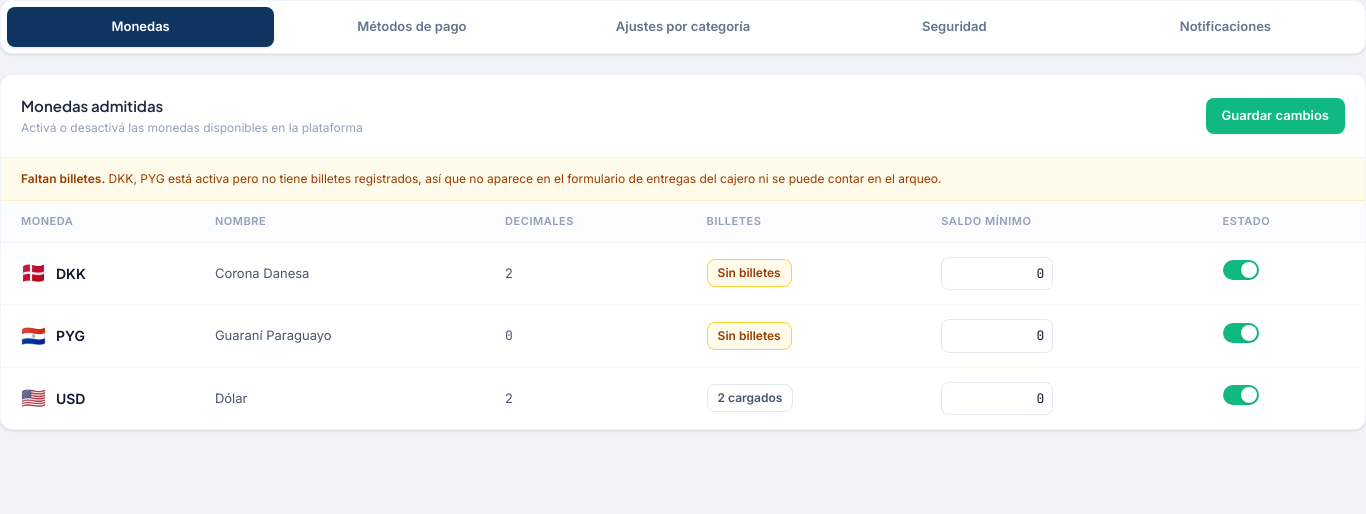
Scenario: Configuration (API + tabs) › PI-80: guarda el saldo mínimo de una divisa
Expected: the heading "Monedas admitidas" is shown, [21,96,163,114]
Type "500" into the field named "Saldo mínimo de USD" in the row of "USD". click: x=997, y=398
box: [941,382,1053,415]
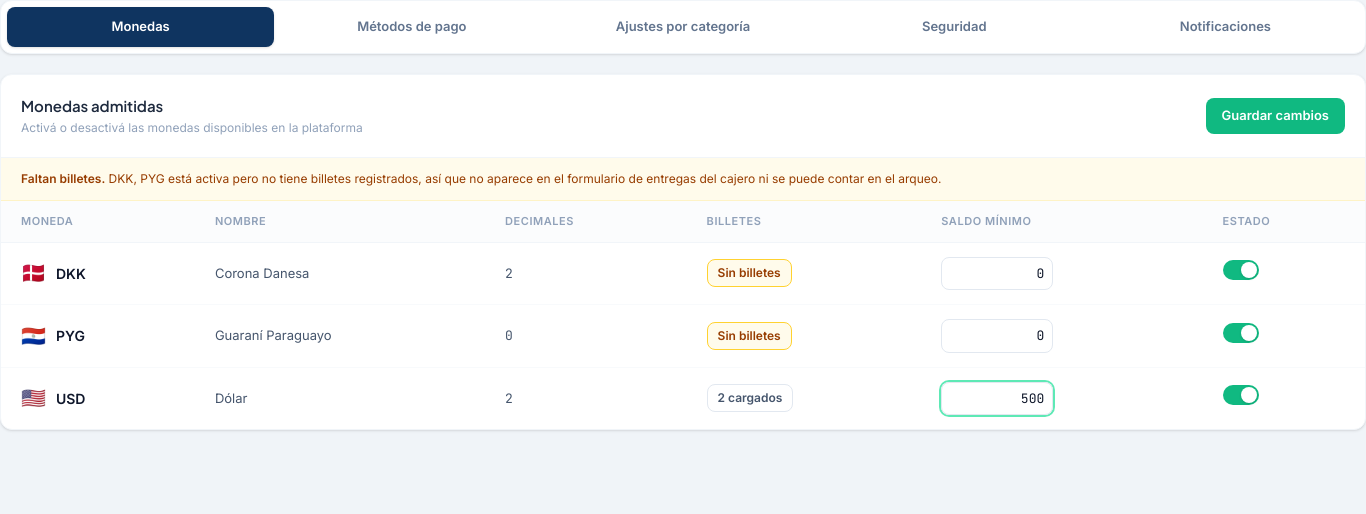
Press Tab
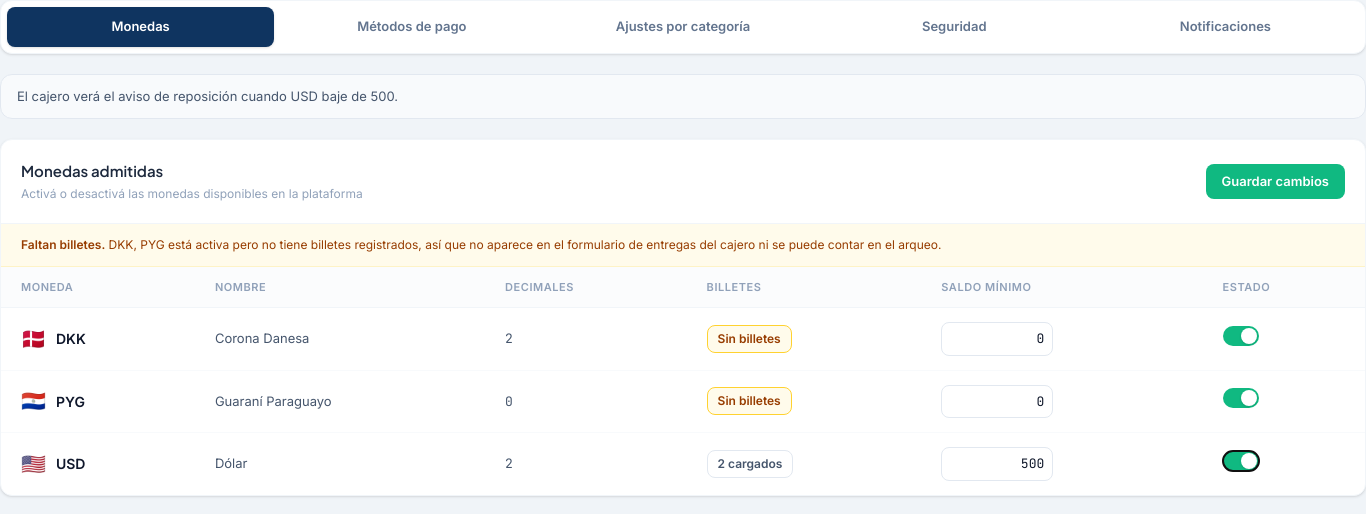
Expected: the message reads "El cajero verá el aviso de reposición cuando USD baje de 500.", [17,88,398,104]
